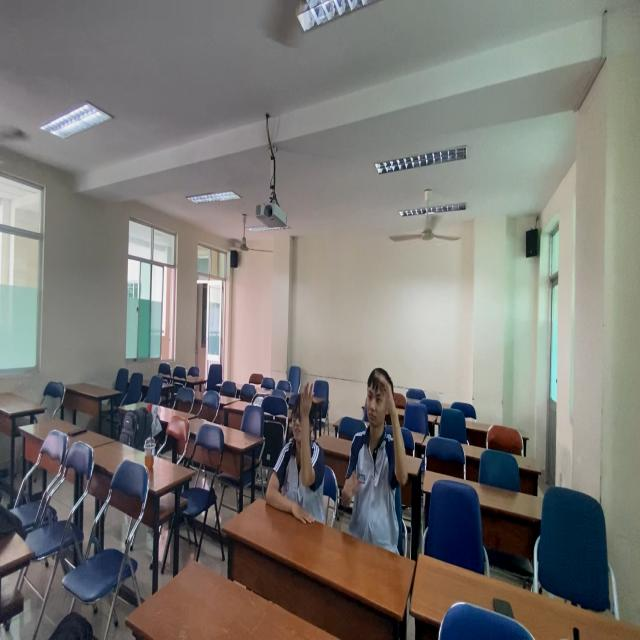raise_hand: (263, 378, 326, 530)
